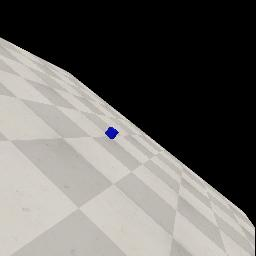box: (105, 127, 119, 139)
